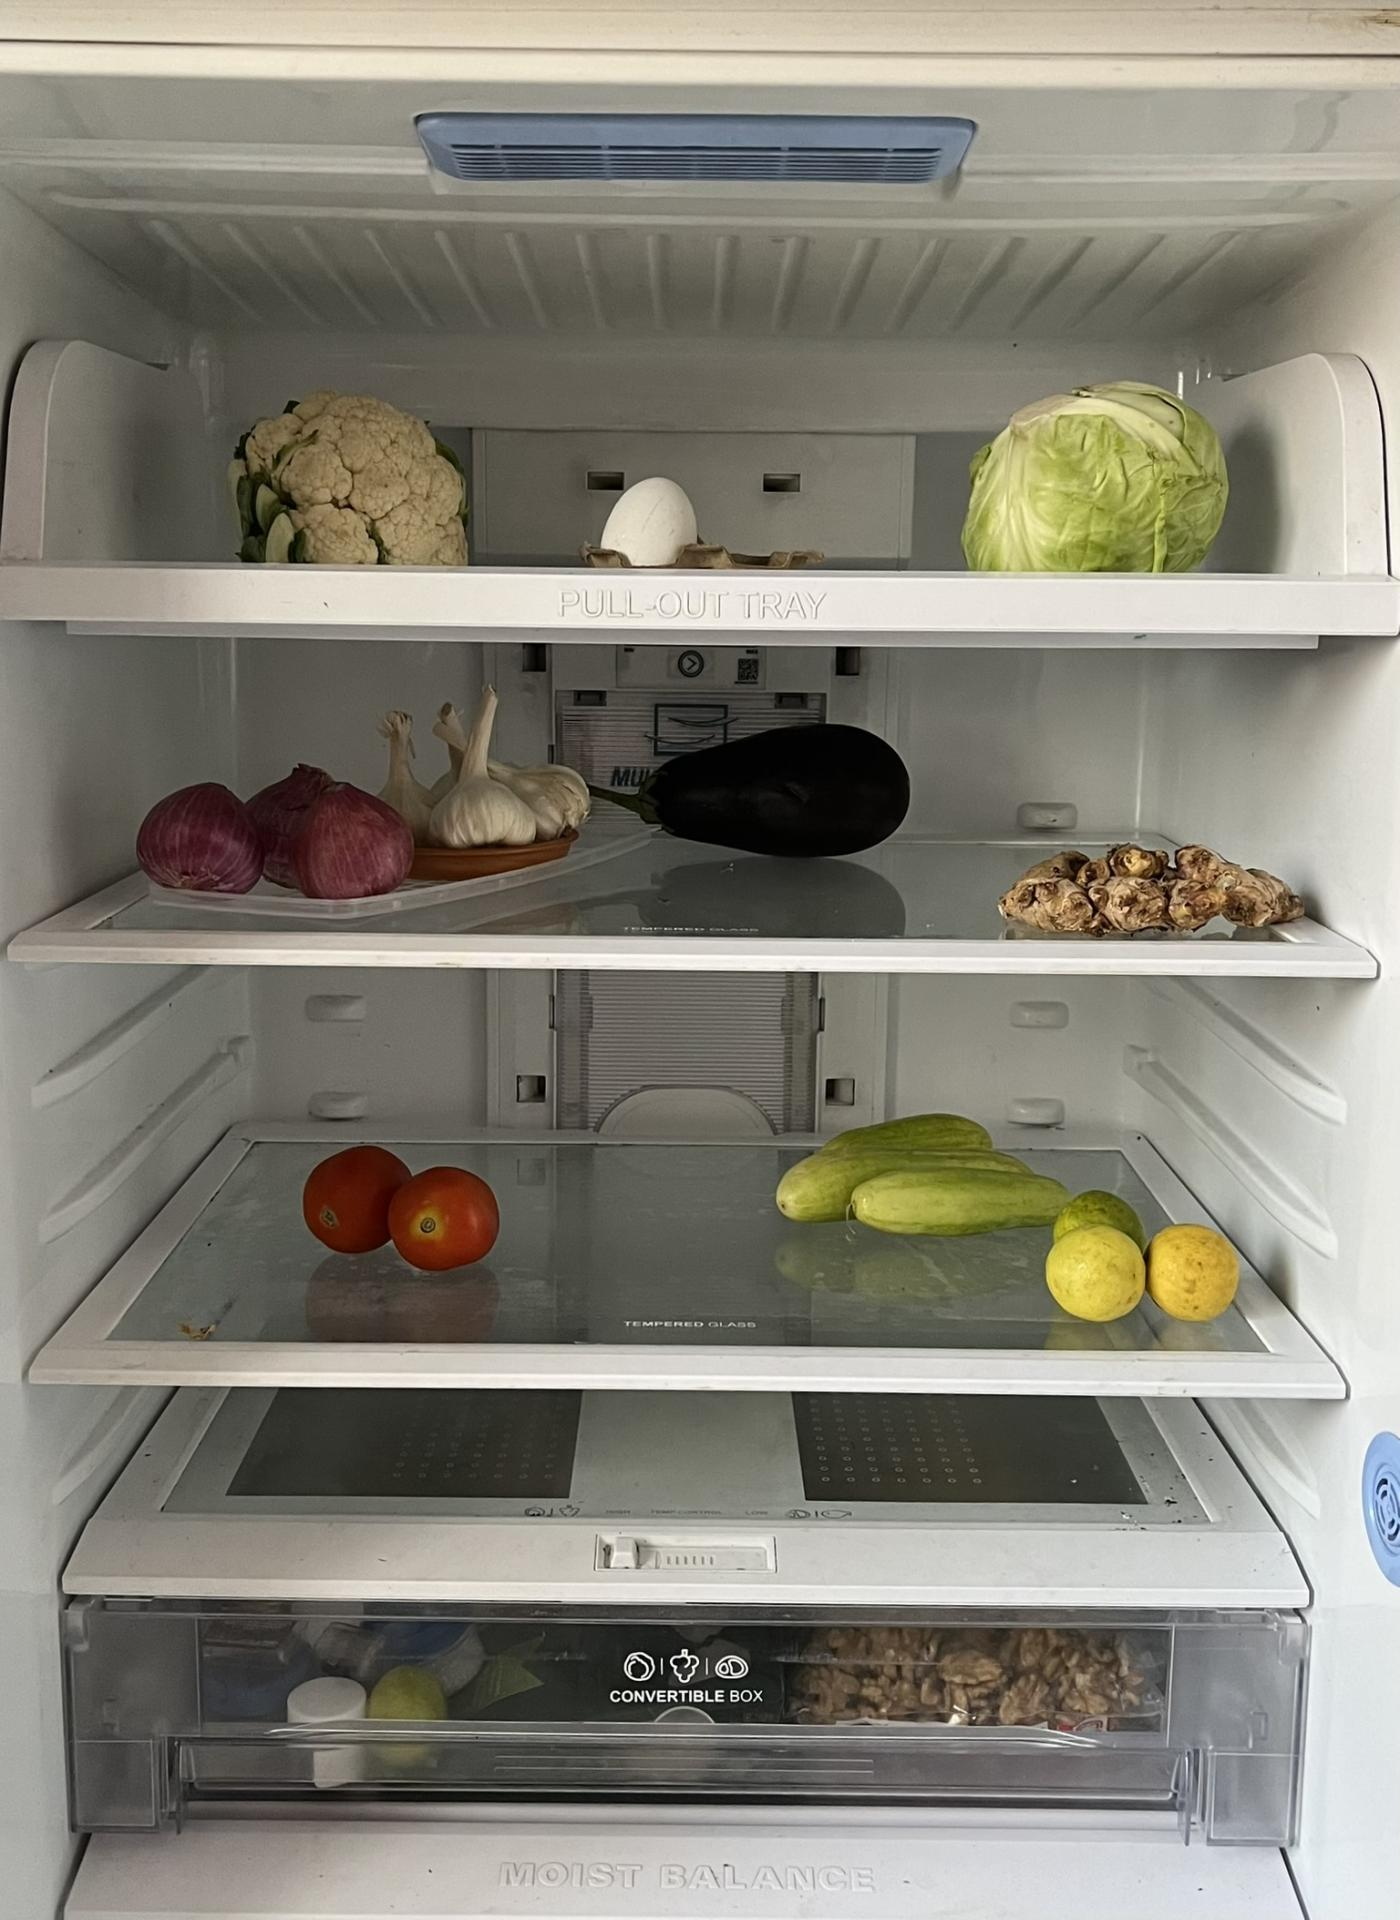brinjal: (590, 714, 917, 848)
cabbage: (954, 380, 1233, 569)
cauliflower: (219, 388, 480, 569)
cucumber: (771, 1111, 1091, 1234)
egg: (592, 471, 704, 569)
garlic: (383, 677, 583, 839)
ginger: (1003, 839, 1309, 936)
lemon: (1047, 1201, 1251, 1331)
onion: (143, 768, 417, 899)
tomato: (301, 1143, 501, 1275)
